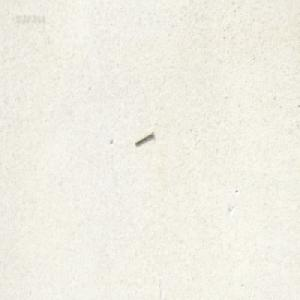Bolt: (133, 129, 153, 146)
